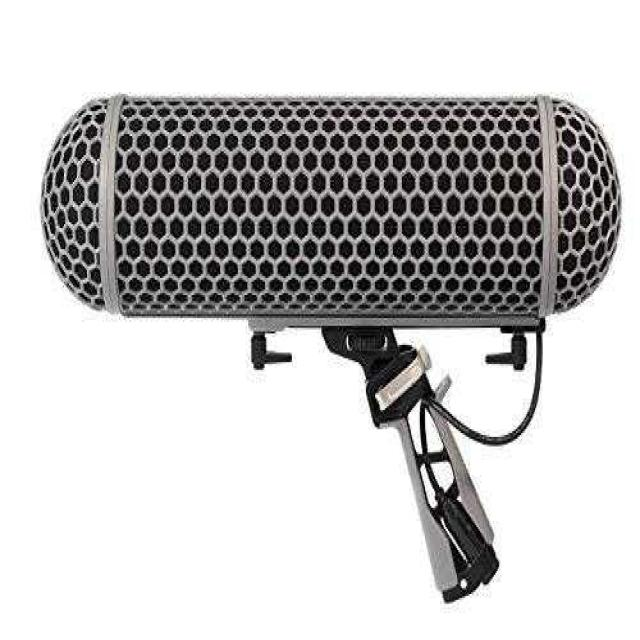microphone: (51, 92, 622, 354)
